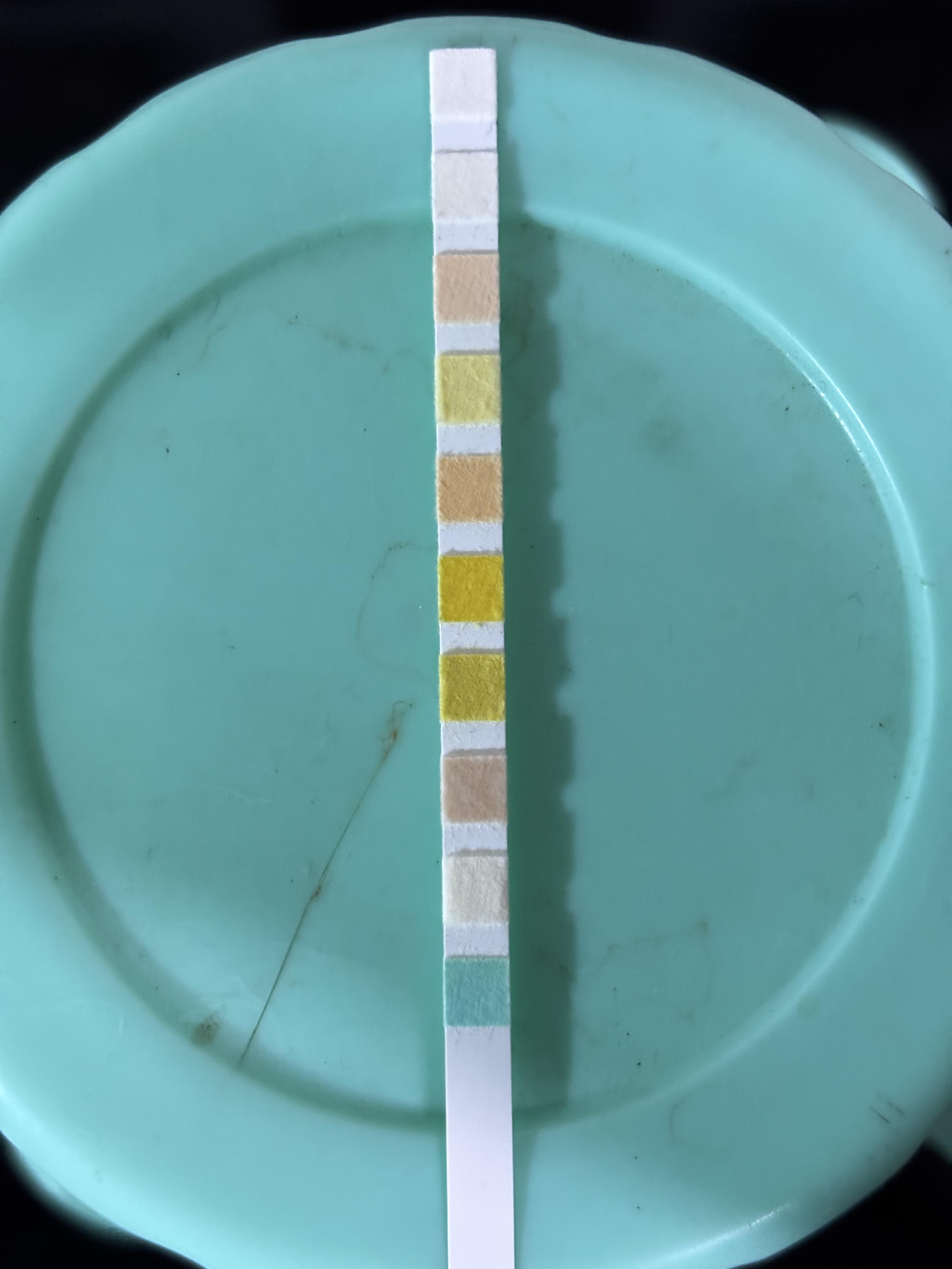Bilirubin: (444, 859, 507, 922)
Blood: (441, 557, 503, 620)
Glucose: (446, 959, 509, 1022)
Ketone: (443, 757, 506, 820)
Leukocytes: (433, 53, 496, 116)
Nitrite: (435, 155, 498, 218)
Protein: (437, 357, 500, 420)
SpGravity: (441, 654, 504, 717)
Urobilinogen: (435, 259, 498, 322)
pH: (438, 455, 501, 518)
strip: (432, 51, 512, 1195)
